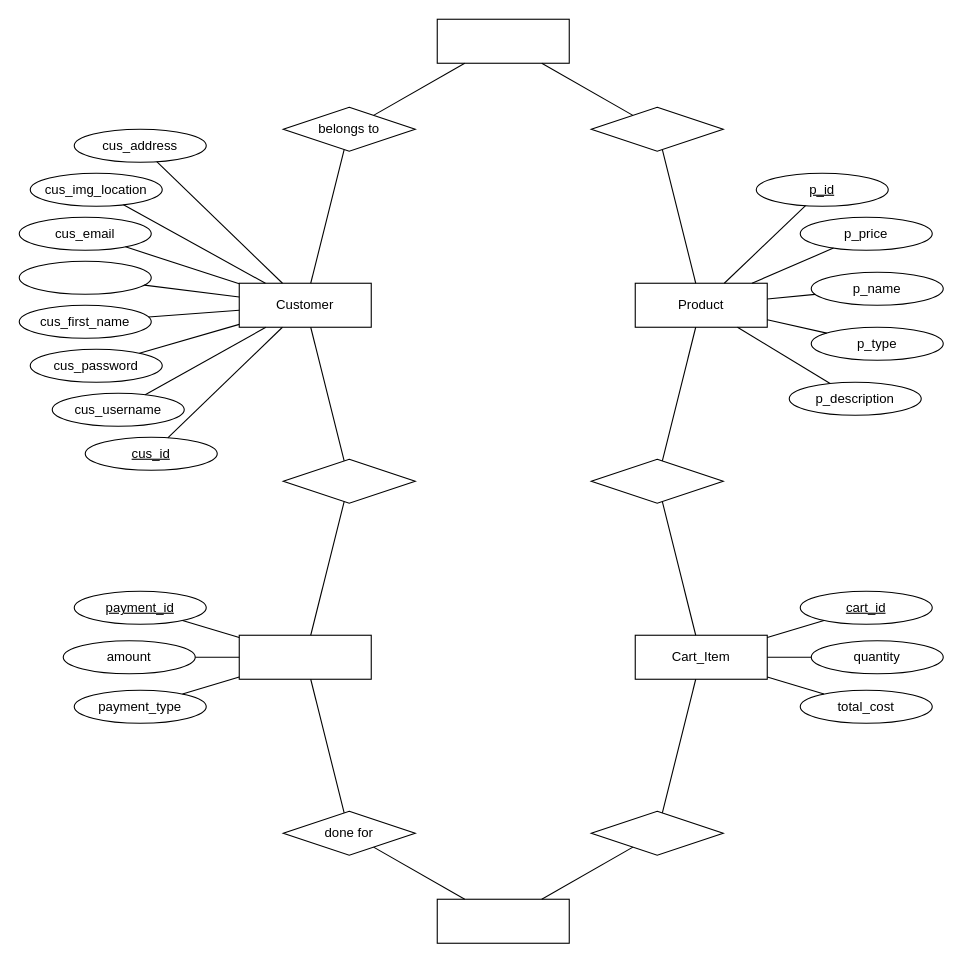
Some shapes in this 963 by 963 pixel diagram are drawn without their labels. Each missing label, with the box of its shape:
added to: (590, 458, 723, 503)
Cart: (436, 898, 569, 943)
cus_last_name: (18, 260, 151, 294)
does: (282, 458, 415, 503)
Has: (590, 106, 723, 151)
made of: (590, 810, 723, 855)
Online_Foods: (436, 18, 569, 63)
Payment: (238, 634, 371, 679)
